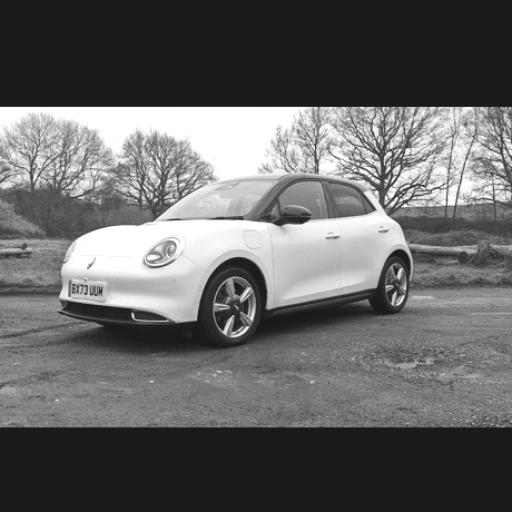hatchback: (59, 174, 412, 345)
